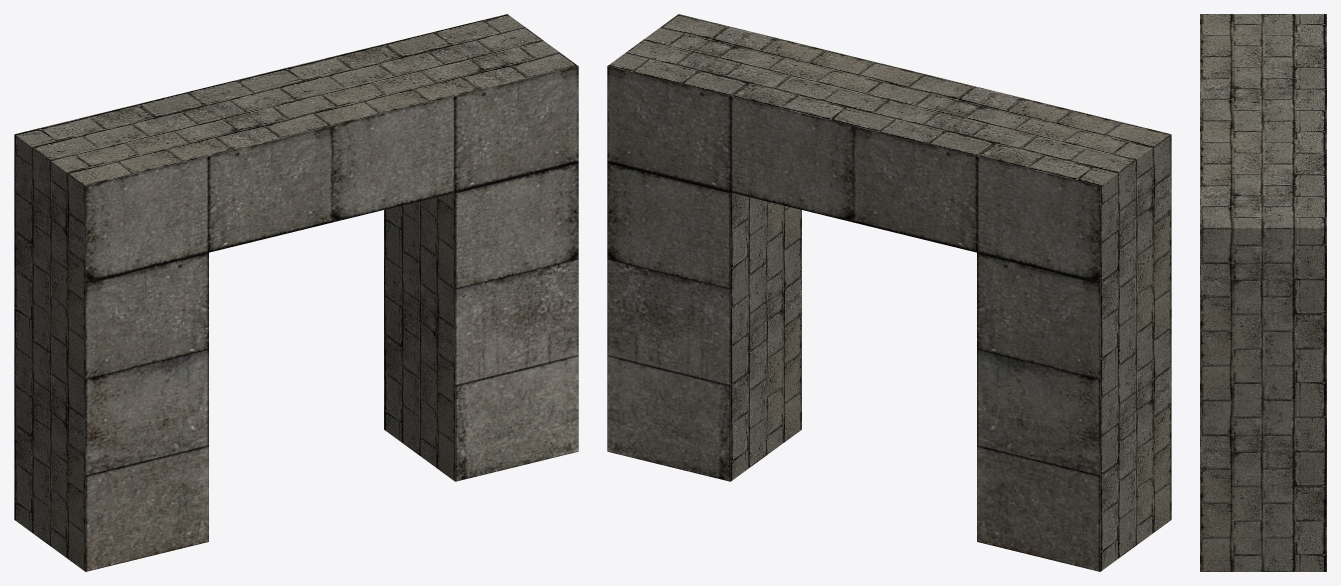
File: Stage2Gate.fbx
3 views of the same model, side by side, from view 1: azimuth 30°, elevation 25°; view 2: azimuth 150°, elevation 25°; view 3: azimuth 270°, elevation 25° (orthographic). The views are drawn at different scales.
Visible parts, largest first — view 1: BB_Corner_Alt_4x2x1, BB_Corner_4x2x1; view 2: BB_Corner_Alt_4x2x1, BB_Corner_4x2x1; view 3: BB_Corner_4x2x1, BB_Corner_Alt_4x2x1.
Boxes of the visible parts, left/top/right/bottom form: BB_Corner_Alt_4x2x1: left=14, top=74, right=331, bottom=571; BB_Corner_4x2x1: left=261, top=14, right=578, bottom=481; BB_Corner_Alt_4x2x1: left=854, top=74, right=1171, bottom=571; BB_Corner_4x2x1: left=607, top=14, right=924, bottom=481; BB_Corner_4x2x1: left=1200, top=121, right=1326, bottom=571; BB_Corner_Alt_4x2x1: left=1200, top=14, right=1326, bottom=121.
Bounding box in the file's own units: 400 × 100 × 299.
1 material, 1 textured.
